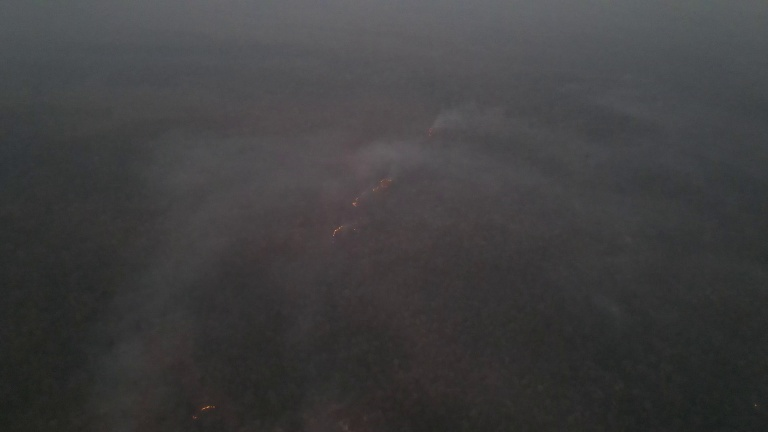fire: (348, 177, 395, 209), (328, 221, 362, 244), (189, 404, 217, 423), (424, 125, 438, 139)
smoke: (345, 139, 436, 185)
